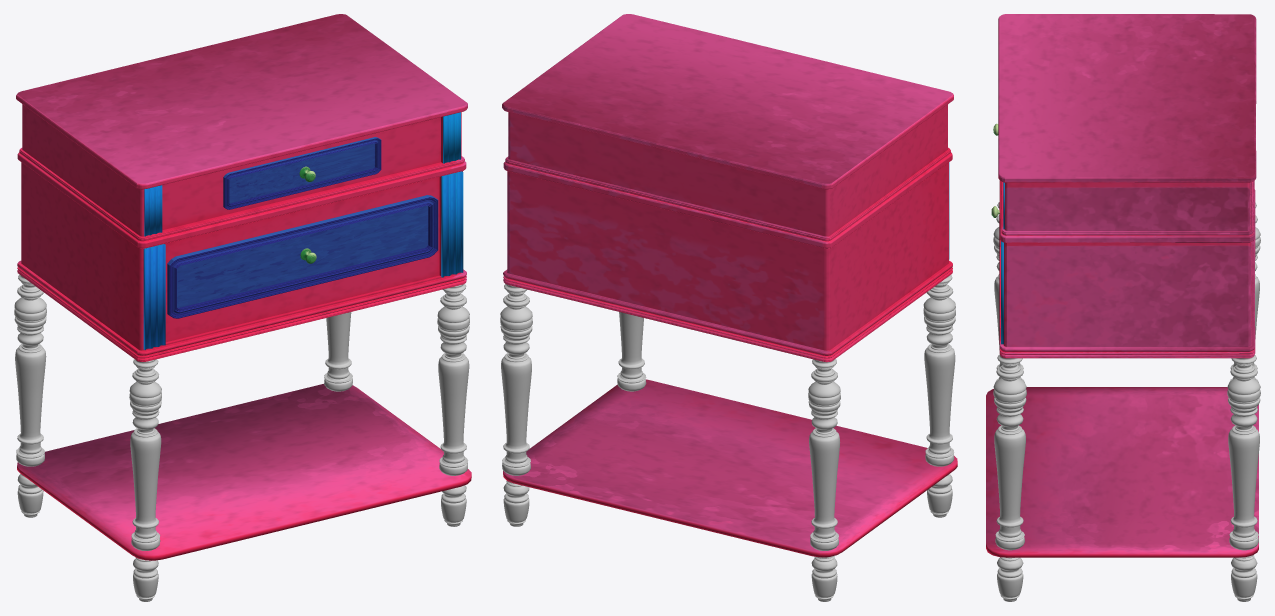
The model's file is Table.fbx.
3 views of the same model, side by side, from view 1: azimuth 30°, elevation 25°; view 2: azimuth 150°, elevation 25°; view 3: azimuth 270°, elevation 25° (orthographic).
Visible parts, largest first — view 1: Plane.013, Cube.001, Legs, Plane.009, Plane.003, Plane.014; view 2: Plane.013, Cube.001, Legs; view 3: Plane.013, Cube.001, Legs, Plane.003.
Boxes of the visible parts, x1=… form: Plane.013: x1=16, y1=14, x2=467, y2=361; Cube.001: x1=17, y1=384, x2=471, y2=560; Legs: x1=14, y1=274, x2=469, y2=601; Plane.009: x1=167, y1=195, x2=438, y2=318; Plane.003: x1=143, y1=112, x2=463, y2=350; Plane.014: x1=223, y1=137, x2=381, y2=209; Plane.013: x1=502, y1=14, x2=953, y2=362; Cube.001: x1=503, y1=379, x2=957, y2=557; Legs: x1=500, y1=275, x2=955, y2=601; Plane.013: x1=998, y1=14, x2=1256, y2=358; Cube.001: x1=986, y1=387, x2=1258, y2=557; Legs: x1=993, y1=202, x2=1260, y2=601; Plane.003: x1=1001, y1=182, x2=1004, y2=344.
Bounding box in the file's own units: 95.09 × 114 × 66.16.
